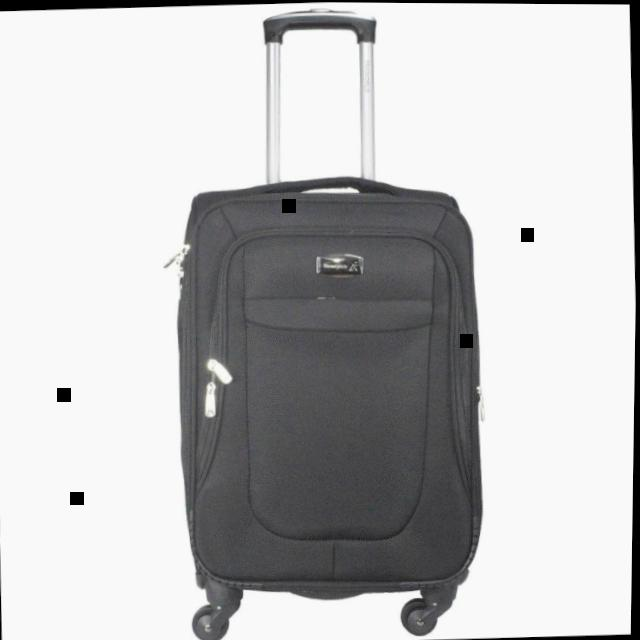luggage: (152, 159, 499, 606)
